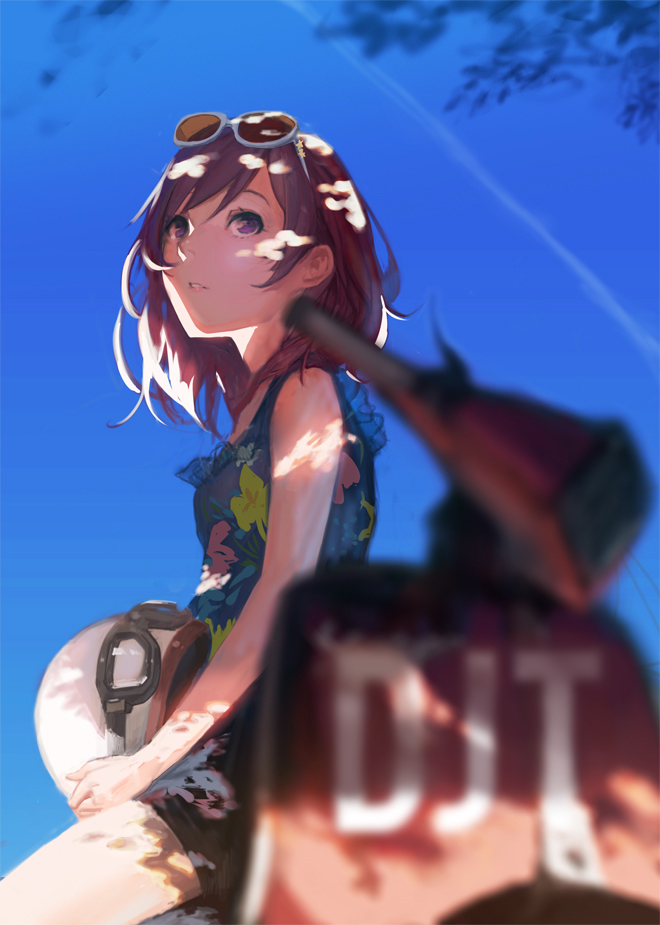anime face: (159, 180, 290, 340)
